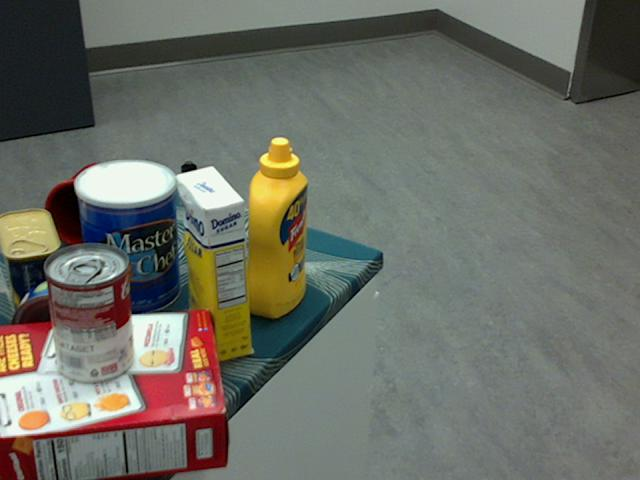cracker_box: (0, 310, 228, 479)
large_marker: (181, 160, 201, 255)
master_chef_can: (72, 159, 179, 318)
mug: (43, 162, 134, 251)
mustard_bottle: (244, 136, 307, 318)
potted_meat_can: (0, 207, 66, 320)
sugar_box: (176, 165, 250, 362)
tomato_soup_can: (43, 244, 132, 384)
tuna_fish_can: (11, 279, 106, 369)
